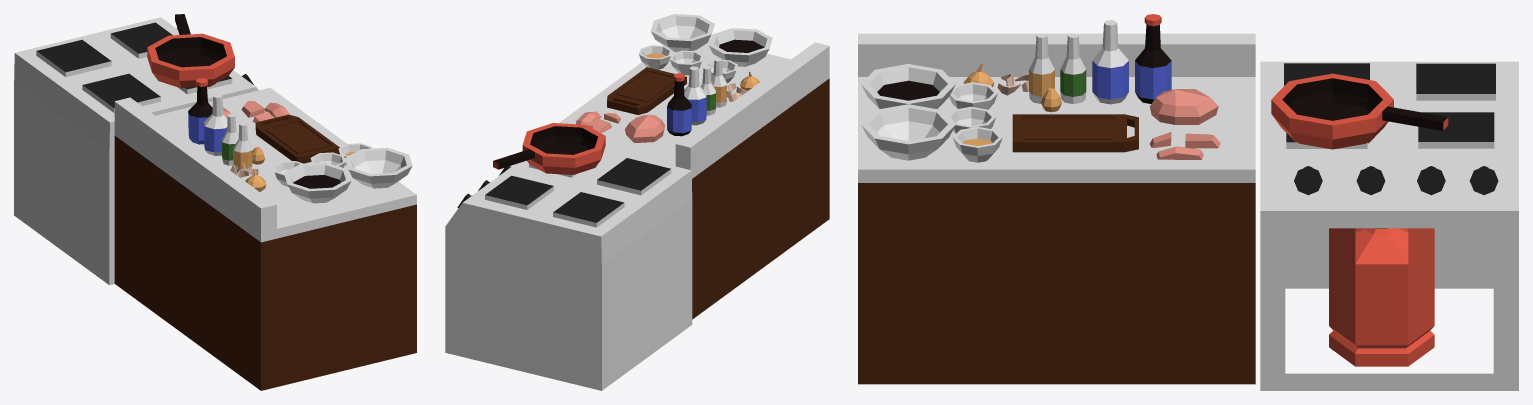
Rendered from kitchen_leader_test.fbx.
3 views of the same model, side by side, from view 1: azimuth 30°, elevation 25°; view 2: azimuth 150°, elevation 25°; view 3: azimuth 270°, elevation 25° (orthographic). The views are drawn at different scales.
Parts seen in each view (by area): view 1: table, steve, stirfryer, cuttingboard, bowl.003, bowl.002, bottle_mirin, bottle_soy, bottle_oil, chickenbreast_cut, bottle_sake, bowl; view 2: steve, table, stirfryer, cuttingboard, bowl.002, bowl.003, bottle_soy, chickenbreast, bottle_mirin, bowl_egg, bowl, chickenbreast_cut (+3 smaller); view 3: table, steve, Cylinder, stirfryer, cuttingboard, bowl.002, bowl.003, bottle_mirin, bottle_soy, chickenbreast, bottle_sake, bowl_egg (+8 smaller).
Boxes of the visible parts, x1,y1,x2,y2 form: table: (114, 87, 416, 390); steve: (14, 17, 258, 285); stirfryer: (147, 14, 234, 88); cuttingboard: (255, 114, 339, 163); bowl.003: (284, 162, 351, 203); bowl.002: (345, 147, 412, 188); bottle_mirin: (203, 94, 227, 155); bottle_soy: (188, 78, 212, 144); bottle_oil: (233, 122, 252, 173); chickenbreast_cut: (241, 101, 289, 122); bottle_sake: (221, 114, 238, 165); bowl: (310, 152, 345, 167); steve: (445, 149, 692, 390); table: (559, 39, 829, 319); stirfryer: (493, 123, 605, 174); cuttingboard: (607, 67, 686, 114); bowl.002: (651, 14, 714, 52); bowl.003: (708, 28, 772, 66); bottle_soy: (667, 73, 691, 136); chickenbreast: (625, 114, 664, 142); bottle_mirin: (684, 66, 706, 125); bowl_egg: (639, 45, 672, 69); bowl: (670, 50, 703, 75); chickenbreast_cut: (576, 111, 620, 133); table: (858, 33, 1255, 384); steve: (1260, 61, 1518, 390); Cylinder: (1329, 228, 1434, 366); stirfryer: (1271, 73, 1448, 149); cuttingboard: (1012, 114, 1138, 152); bowl.002: (861, 104, 955, 160); bowl.003: (861, 64, 955, 108); bottle_mirin: (1092, 20, 1128, 104); bottle_soy: (1135, 14, 1171, 103); chickenbreast: (1150, 89, 1218, 124); bottle_sake: (1060, 33, 1086, 103); bowl_egg: (953, 127, 1002, 162).
Size of the model in its own units: 2.06 by 2.57 by 5.11.
